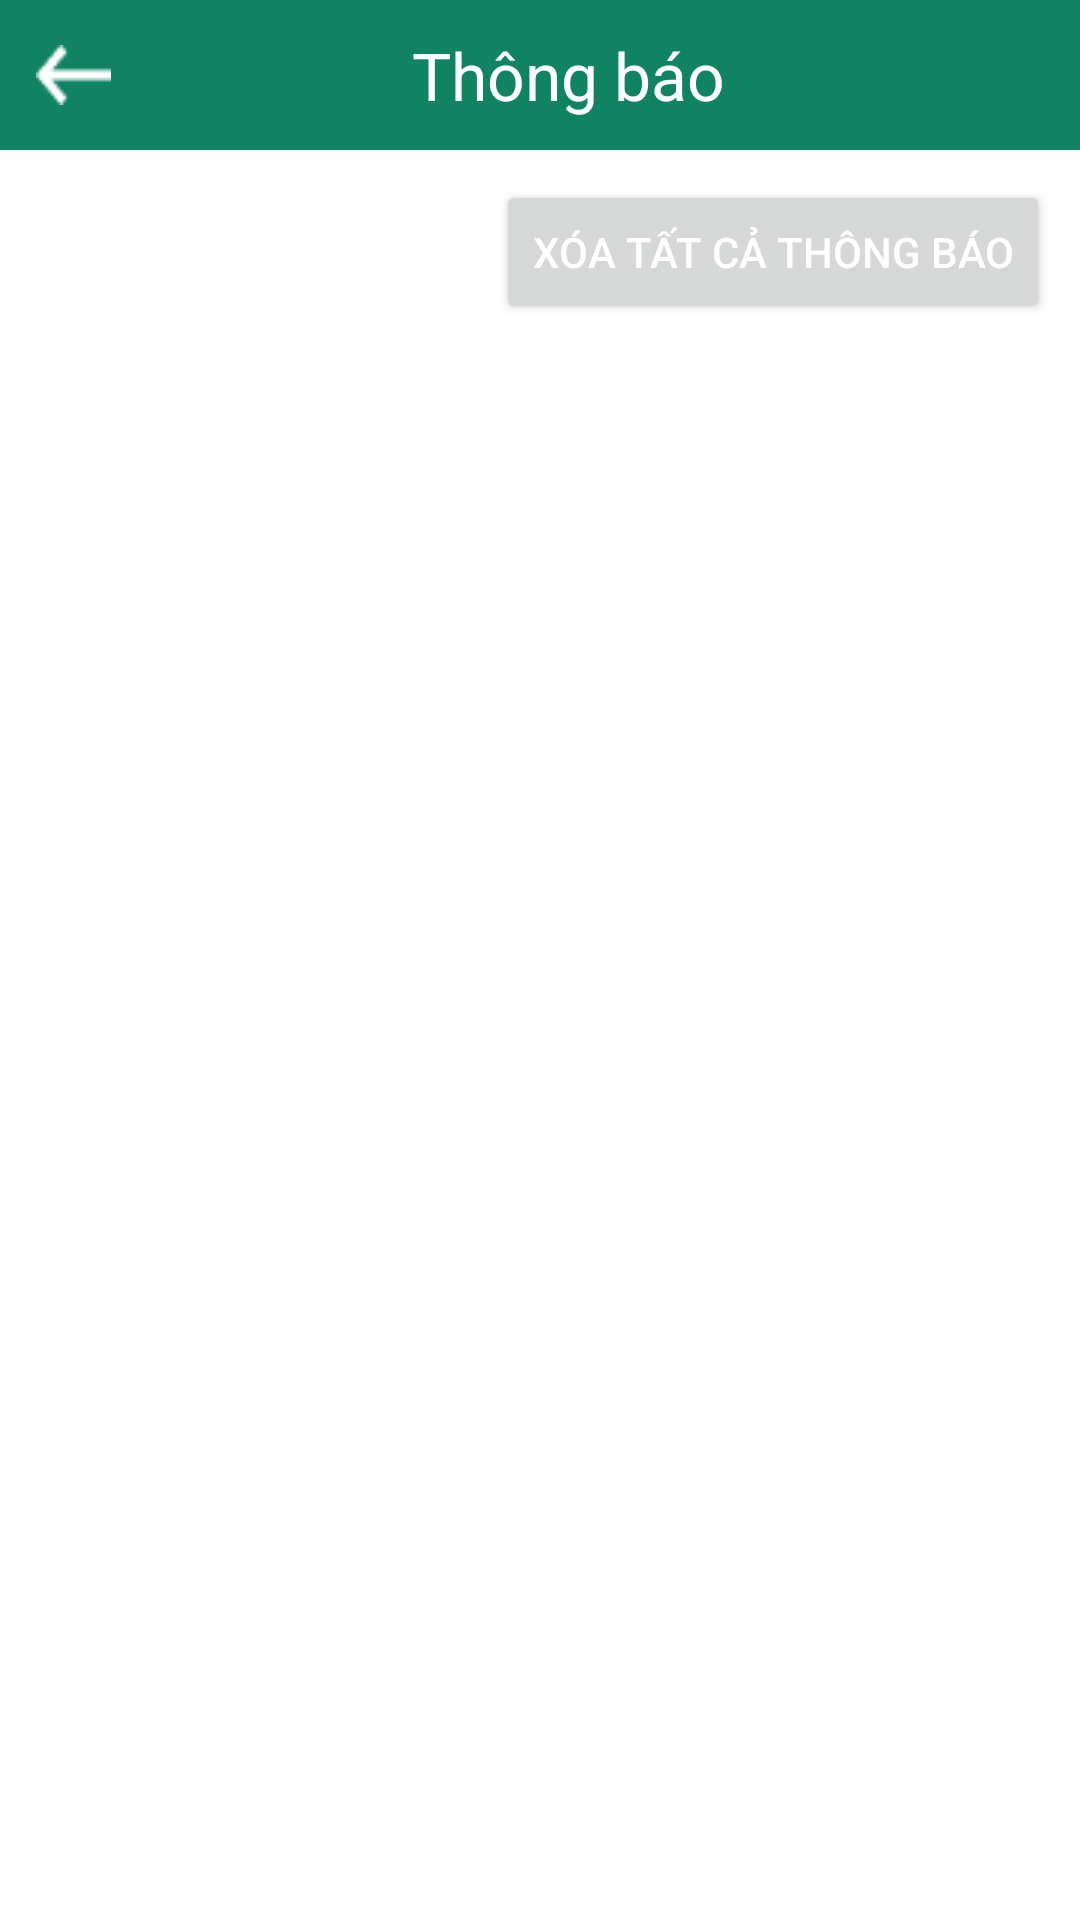

Screen size 1080×1920. Icon name, then its center in pixels as point (x, y):
back: point (73, 75)
